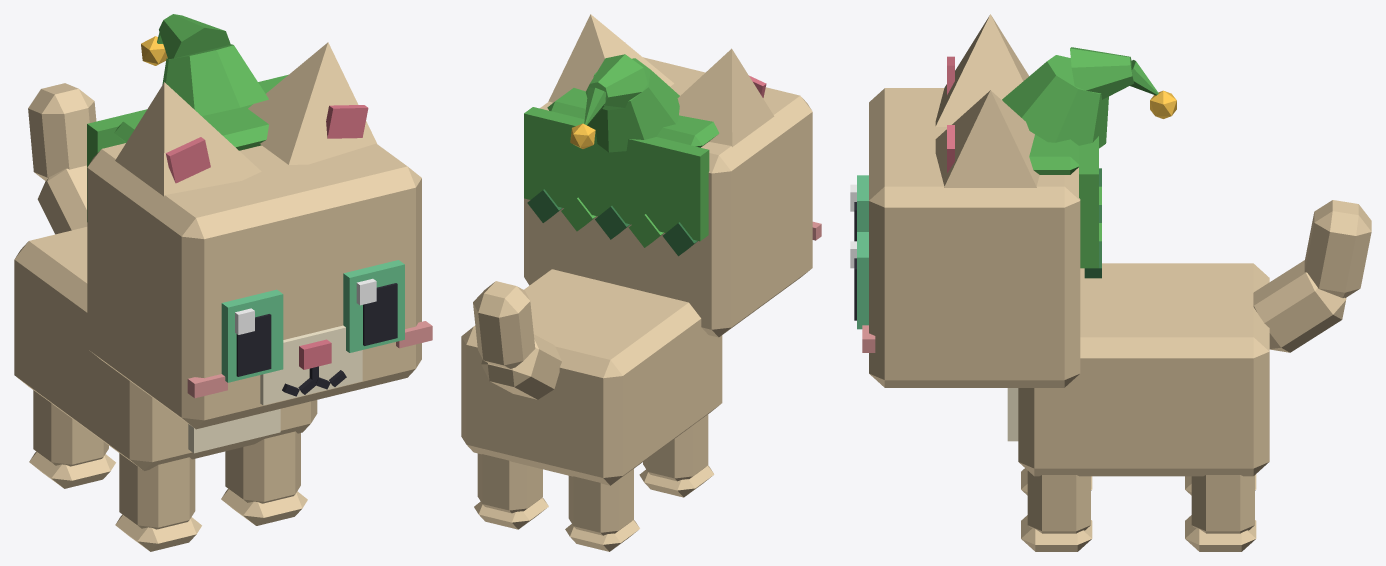
File: CatCafe_Cat_Elf.glb
The picture shows the model from 3 angles, left to right: view 1: azimuth 30°, elevation 25°; view 2: azimuth 150°, elevation 25°; view 3: azimuth 270°, elevation 25°; orthographic projection. The views are drawn at different scales.
Visible parts, largest first — view 1: CatCafe_Cat_Elf_Head, CatCafe_Cat_Elf_Body, CatCafe_Cat_Elf_Prop, CatCafe_Cat_Elf_EarL, CatCafe_Cat_Elf_EarR, CatCafe_Cat_Elf_Tail, CatCafe_Cat_Elf_LegF2, CatCafe_Cat_Elf_LegF1, CatCafe_Cat_Elf_Eye2, CatCafe_Cat_Elf_Eye1, CatCafe_Cat_Elf_LegB2; view 2: CatCafe_Cat_Elf_Body, CatCafe_Cat_Elf_Head, CatCafe_Cat_Elf_Prop, CatCafe_Cat_Elf_Tail, CatCafe_Cat_Elf_EarR, CatCafe_Cat_Elf_LegB2, CatCafe_Cat_Elf_LegB1, CatCafe_Cat_Elf_LegF2, CatCafe_Cat_Elf_EarL; view 3: CatCafe_Cat_Elf_Head, CatCafe_Cat_Elf_Body, CatCafe_Cat_Elf_Prop, CatCafe_Cat_Elf_Tail, CatCafe_Cat_Elf_EarL, CatCafe_Cat_Elf_LegF1, CatCafe_Cat_Elf_LegB1, CatCafe_Cat_Elf_EarR, CatCafe_Cat_Elf_Eye1, CatCafe_Cat_Elf_Eye2.
Part boxes in pixels (left/top/right/bottom): CatCafe_Cat_Elf_Head: left=87, top=143, right=432, bottom=429; CatCafe_Cat_Elf_Body: left=14, top=227, right=317, bottom=470; CatCafe_Cat_Elf_Prop: left=87, top=14, right=288, bottom=221; CatCafe_Cat_Elf_EarL: left=248, top=42, right=376, bottom=164; CatCafe_Cat_Elf_EarR: left=115, top=82, right=261, bottom=196; CatCafe_Cat_Elf_Tail: left=28, top=83, right=96, bottom=234; CatCafe_Cat_Elf_LegF2: left=115, top=453, right=201, bottom=551; CatCafe_Cat_Elf_LegF1: left=221, top=431, right=307, bottom=525; CatCafe_Cat_Elf_Eye2: left=221, top=289, right=283, bottom=382; CatCafe_Cat_Elf_Eye1: left=343, top=260, right=404, bottom=352; CatCafe_Cat_Elf_LegB2: left=29, top=390, right=115, bottom=488; CatCafe_Cat_Elf_Body: left=461, top=269, right=722, bottom=485; CatCafe_Cat_Elf_Head: left=524, top=57, right=821, bottom=337; CatCafe_Cat_Elf_Prop: left=524, top=54, right=719, bottom=256; CatCafe_Cat_Elf_Tail: left=473, top=281, right=561, bottom=399; CatCafe_Cat_Elf_EarR: left=677, top=48, right=774, bottom=146; CatCafe_Cat_Elf_LegB2: left=565, top=469, right=639, bottom=551; CatCafe_Cat_Elf_LegB1: left=474, top=453, right=548, bottom=529; CatCafe_Cat_Elf_LegF2: left=639, top=414, right=714, bottom=497; CatCafe_Cat_Elf_EarL: left=548, top=14, right=673, bottom=102; CatCafe_Cat_Elf_Head: left=862, top=88, right=1080, bottom=387; CatCafe_Cat_Elf_Body: left=1007, top=263, right=1269, bottom=476; CatCafe_Cat_Elf_Prop: left=1002, top=47, right=1176, bottom=278; CatCafe_Cat_Elf_Tail: left=1253, top=200, right=1371, bottom=352; CatCafe_Cat_Elf_EarL: left=935, top=90, right=1039, bottom=187; CatCafe_Cat_Elf_LegF1: left=1021, top=471, right=1092, bottom=551; CatCafe_Cat_Elf_LegB1: left=1185, top=475, right=1256, bottom=551; CatCafe_Cat_Elf_EarR: left=935, top=14, right=1028, bottom=126; CatCafe_Cat_Elf_Eye1: left=850, top=232, right=868, bottom=329; CatCafe_Cat_Elf_Eye2: left=850, top=175, right=868, bottom=241.
Size of the model in its own units: 1 by 1.96 by 1.97.
Materials: 1 (1 with a texture image).
